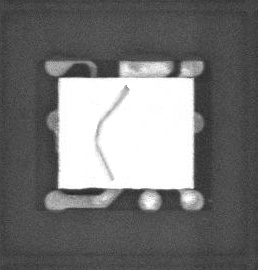DIE_INK: (89, 89, 123, 190)
